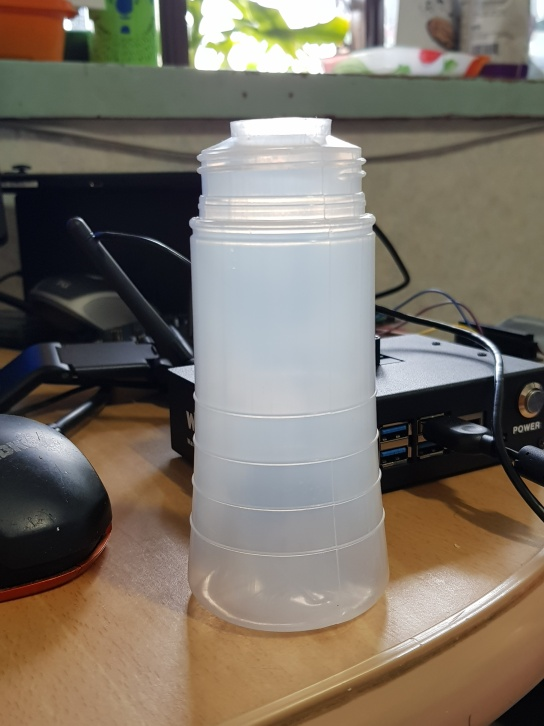Plastic: (184, 112, 397, 633)
